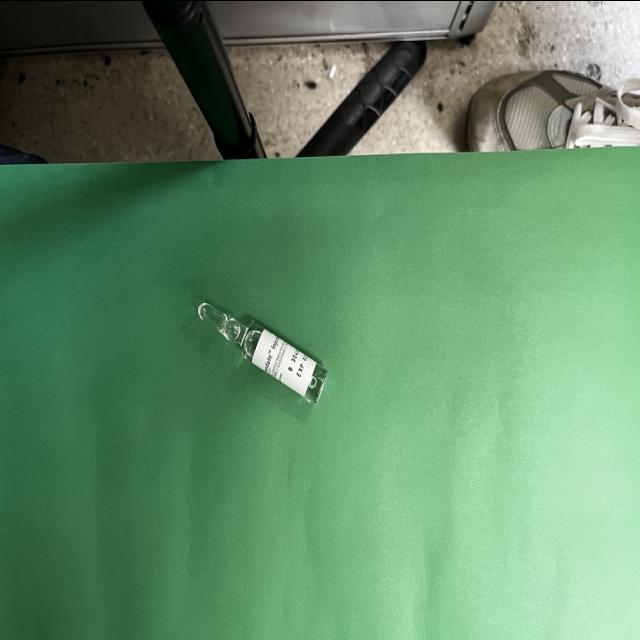Ampoules: (198, 301, 327, 401)
